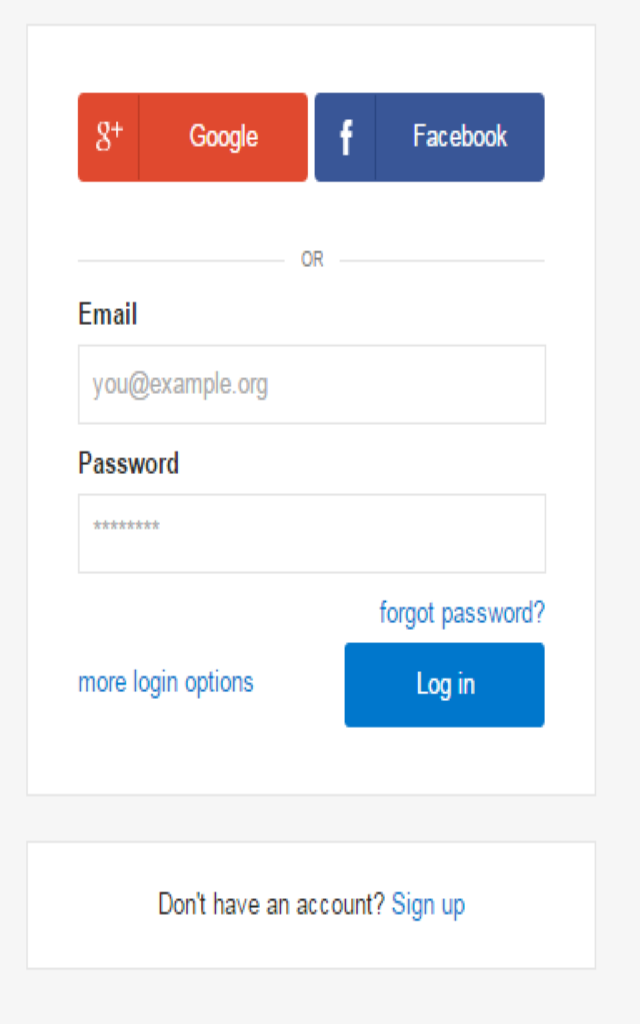button: (314, 92, 545, 180), (78, 92, 306, 180), (345, 641, 545, 727)
button_login: (345, 642, 545, 730)
label_Login: (405, 661, 491, 705)
label_email: (75, 294, 142, 332)
label_password: (77, 447, 183, 478)
textbox: (81, 344, 544, 425), (83, 496, 547, 572)
url: (78, 669, 255, 700)
